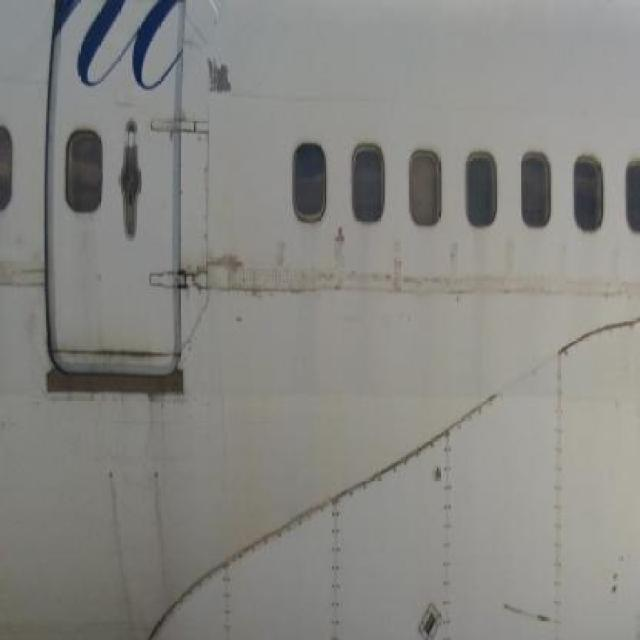Missing-Rivet: (349, 436, 436, 507), (238, 505, 324, 566), (440, 424, 463, 640), (146, 569, 217, 637), (326, 487, 344, 640), (467, 389, 505, 431), (220, 560, 237, 640)
Rust: (100, 458, 137, 614), (148, 462, 181, 586), (166, 249, 212, 323)
Scartch: (50, 384, 202, 496), (208, 240, 278, 328), (493, 568, 561, 630), (316, 226, 358, 309), (176, 280, 216, 366), (496, 216, 532, 309), (381, 227, 419, 311), (446, 238, 483, 324), (273, 231, 299, 317), (206, 53, 237, 109)
